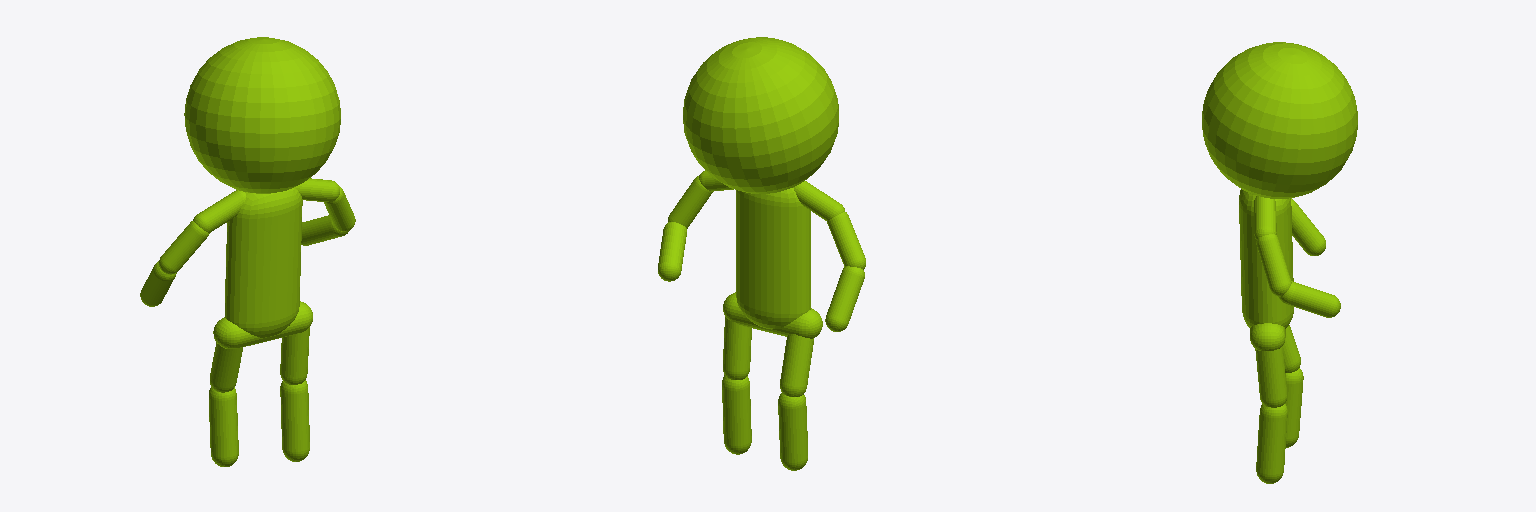
Rendered from Stickman_000044.obj.
3 renders of one model, left to right at view 1: azimuth 30°, elevation 25°; view 2: azimuth 150°, elevation 25°; view 3: azimuth 270°, elevation 25°, orthographic.
Parts seen in each view (by area): view 1: Head_Sphere.001, Body_Roundcube.002, LowerLegLeft_Roundcube.013, LowerLegRight_Roundcube.011, Hip_Roundcube.005, UpperLegLeft_Roundcube.012, UpperArmRight_Roundcube.015, UpperLegRight_Roundcube.010, ShoulderRight_Roundcube.014, LowerArmRight_Roundcube.016, LowerArmLeft_Roundcube.019, ShoulderLeft_Roundcube.017 (+1 smaller); view 2: Head_Sphere.001, Body_Roundcube.002, LowerLegLeft_Roundcube.013, LowerLegRight_Roundcube.011, UpperLegRight_Roundcube.010, LowerArmRight_Roundcube.016, UpperLegLeft_Roundcube.012, Hip_Roundcube.005, LowerArmLeft_Roundcube.019, UpperArmRight_Roundcube.015, UpperArmLeft_Roundcube.018, ShoulderRight_Roundcube.014; view 3: Head_Sphere.001, Body_Roundcube.002, LowerLegLeft_Roundcube.013, UpperLegLeft_Roundcube.012, UpperArmLeft_Roundcube.018, LowerArmLeft_Roundcube.019, LowerArmRight_Roundcube.016, LowerLegRight_Roundcube.011, Hip_Roundcube.005, ShoulderLeft_Roundcube.017, UpperLegRight_Roundcube.010.
Part boxes in pixels (bbox=[...]): Head_Sphere.001: bbox=[184, 37, 340, 193]; Body_Roundcube.002: bbox=[225, 187, 302, 337]; LowerLegLeft_Roundcube.013: bbox=[280, 380, 309, 461]; LowerLegRight_Roundcube.011: bbox=[209, 387, 238, 466]; Hip_Roundcube.005: bbox=[213, 301, 312, 348]; UpperLegLeft_Roundcube.012: bbox=[280, 327, 309, 384]; UpperArmRight_Roundcube.015: bbox=[159, 221, 209, 274]; UpperLegRight_Roundcube.010: bbox=[210, 342, 242, 392]; ShoulderRight_Roundcube.014: bbox=[193, 190, 245, 232]; LowerArmRight_Roundcube.016: bbox=[140, 261, 176, 306]; LowerArmLeft_Roundcube.019: bbox=[301, 215, 348, 245]; ShoulderLeft_Roundcube.017: bbox=[295, 178, 339, 201]; Head_Sphere.001: bbox=[683, 37, 838, 193]; Body_Roundcube.002: bbox=[736, 188, 810, 329]; LowerLegLeft_Roundcube.013: bbox=[722, 375, 751, 454]; LowerLegRight_Roundcube.011: bbox=[778, 393, 807, 470]; UpperLegRight_Roundcube.010: bbox=[780, 334, 813, 396]; LowerArmRight_Roundcube.016: bbox=[825, 266, 864, 331]; UpperLegLeft_Roundcube.012: bbox=[723, 317, 751, 379]; Hip_Roundcube.005: bbox=[723, 292, 822, 338]; LowerArmLeft_Roundcube.019: bbox=[658, 222, 686, 281]; UpperArmRight_Roundcube.015: bbox=[827, 212, 865, 269]; UpperArmLeft_Roundcube.018: bbox=[668, 176, 712, 228]; ShoulderRight_Roundcube.014: bbox=[793, 181, 844, 220]; Head_Sphere.001: bbox=[1202, 42, 1357, 198]; Body_Roundcube.002: bbox=[1239, 189, 1293, 328]; LowerLegLeft_Roundcube.013: bbox=[1256, 404, 1287, 483]; UpperLegLeft_Roundcube.012: bbox=[1255, 346, 1286, 407]; UpperArmLeft_Roundcube.018: bbox=[1256, 234, 1291, 296]; LowerArmLeft_Roundcube.019: bbox=[1279, 281, 1340, 317]; LowerArmRight_Roundcube.016: bbox=[1291, 198, 1325, 255]; LowerLegRight_Roundcube.011: bbox=[1285, 368, 1303, 447]; Hip_Roundcube.005: bbox=[1250, 323, 1285, 350]; ShoulderLeft_Roundcube.017: bbox=[1254, 196, 1276, 239]; UpperLegRight_Roundcube.010: bbox=[1283, 325, 1300, 372].
Bounding box in the file's own units: 5.73 × 11.68 × 3.96.